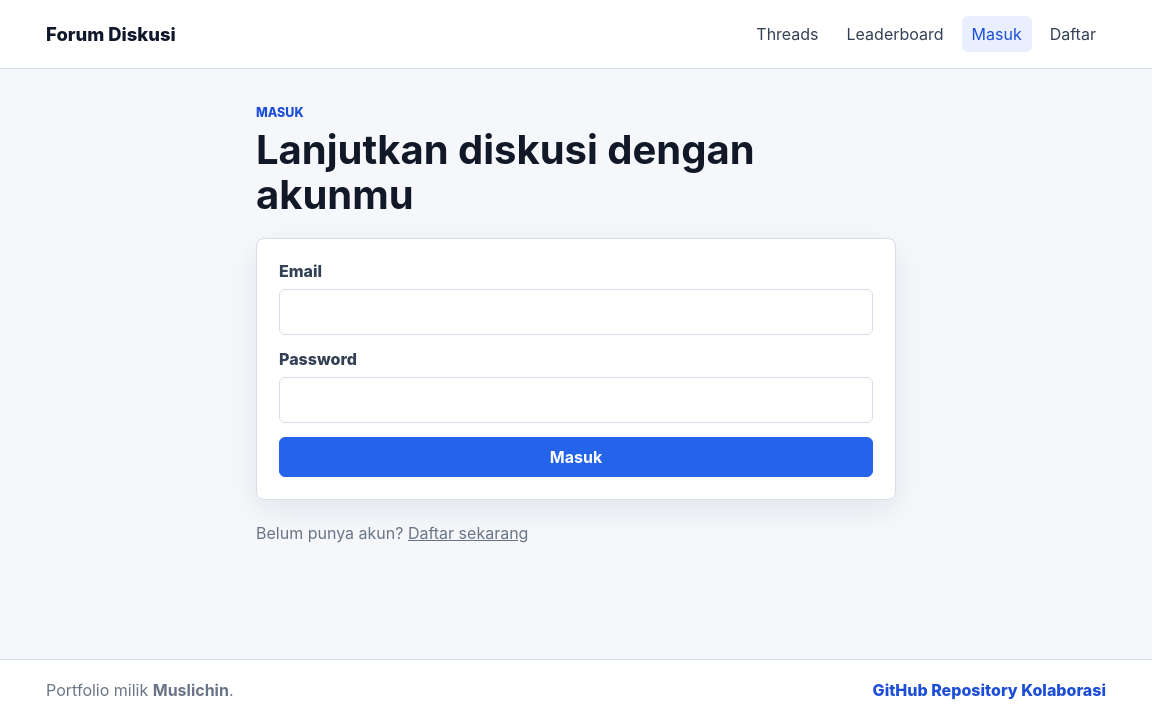
Test case: Login flow › scenario: should authenticate user and navigate to home page
Type "budi@example.com" into the field with id "email".
click(576, 312); type("budi@example.com")  # box [279, 289, 873, 335]
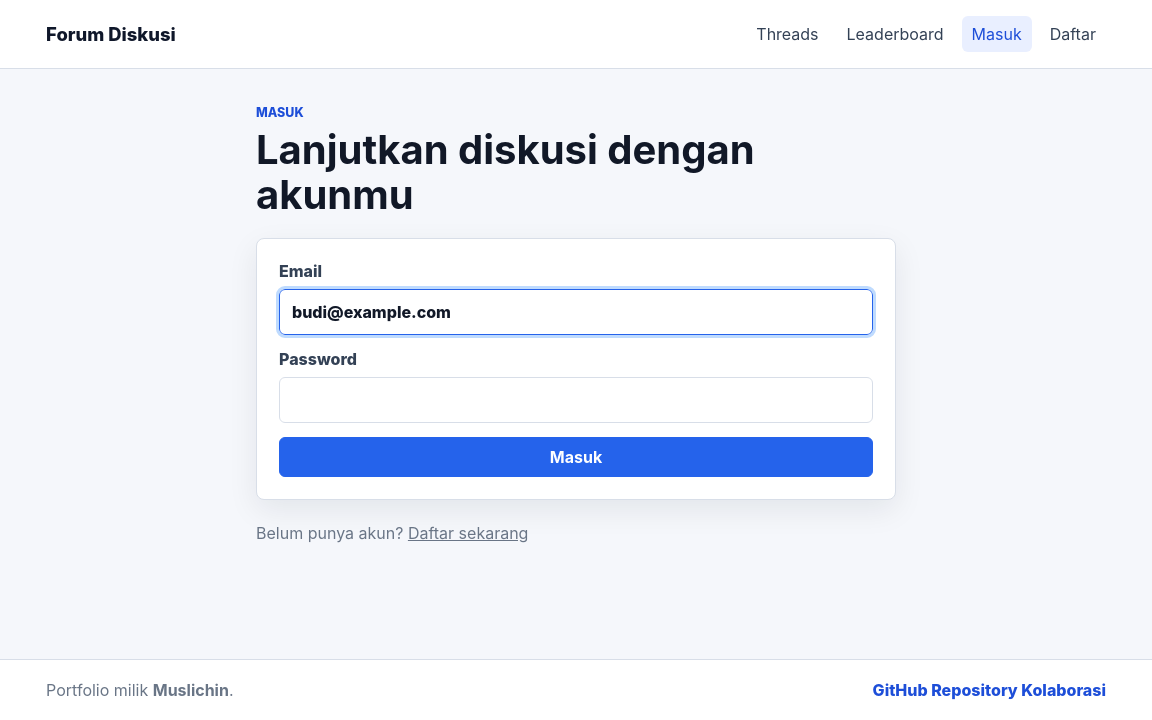
Type "secret123" into the password field labelled "Password".
click(576, 400); type("secret123")  # box [279, 377, 873, 423]
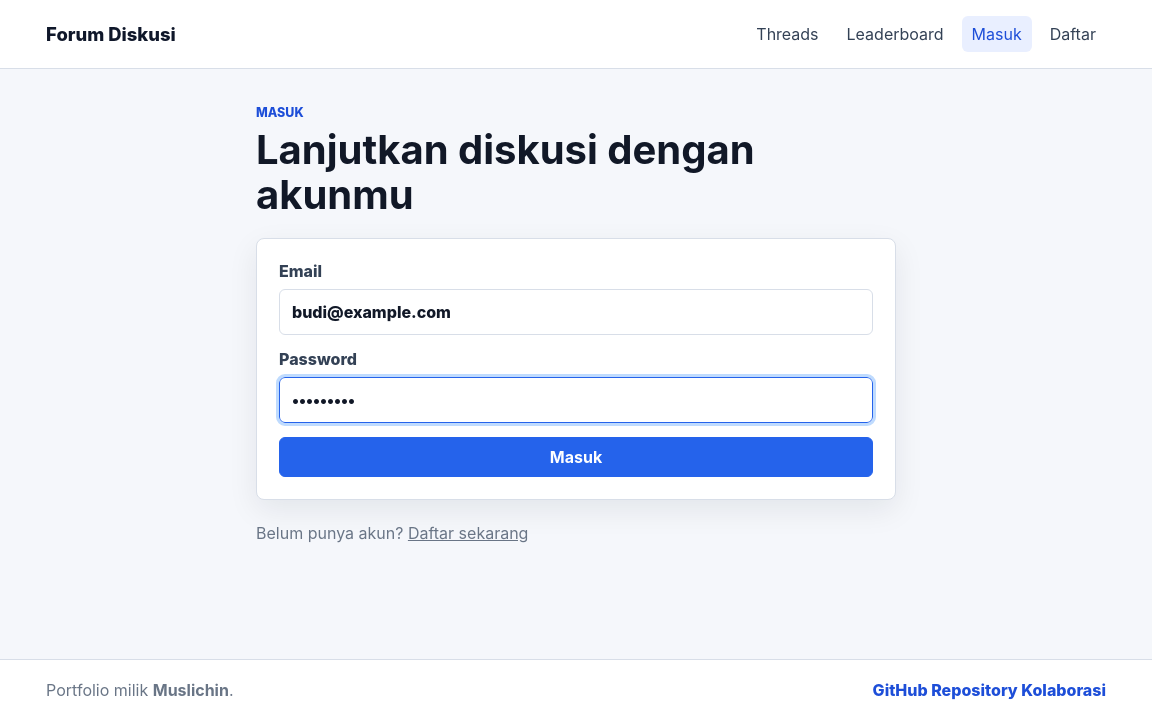
Click the button "Masuk".
click(576, 457)  # box [279, 437, 873, 477]
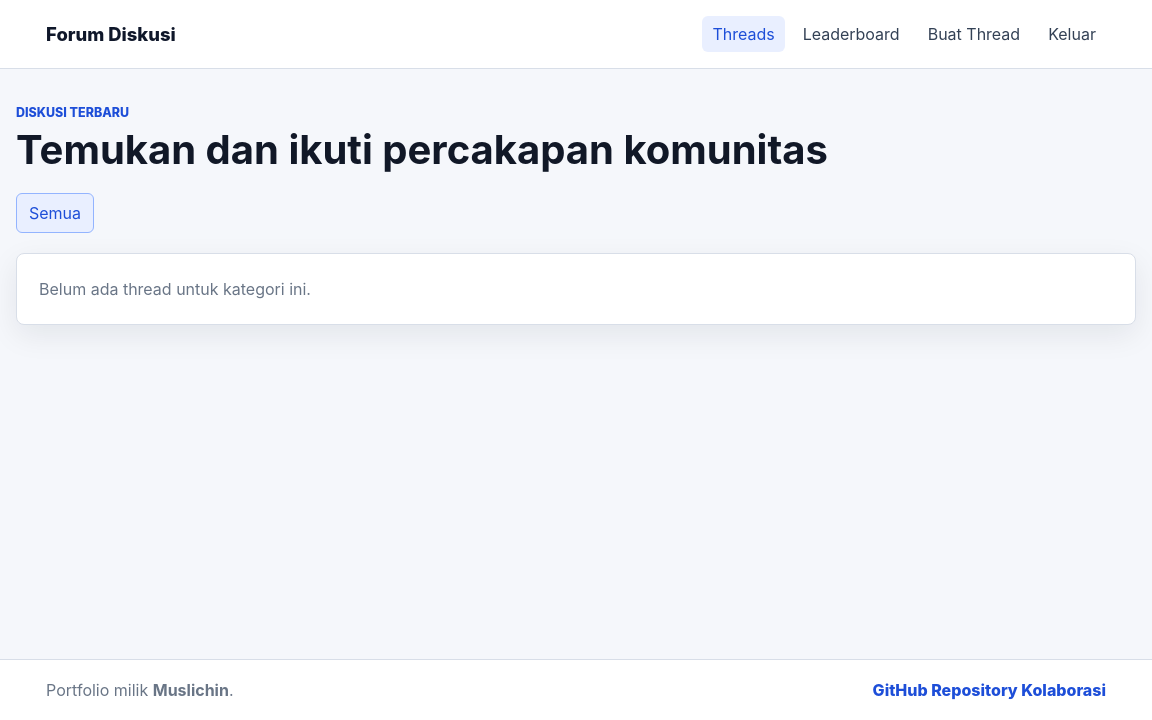
expect the button "Keluar" is shown: met, box [1038, 16, 1106, 52]
